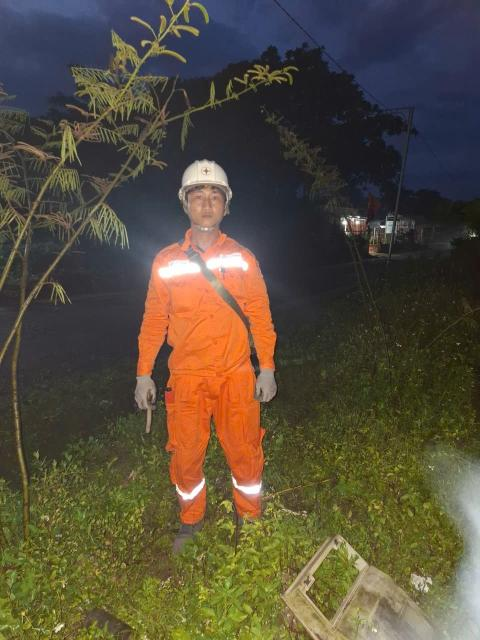gloves: (125, 373, 165, 415), (246, 364, 280, 409)
helmet: (171, 150, 244, 205)
shoes: (163, 515, 207, 565)
